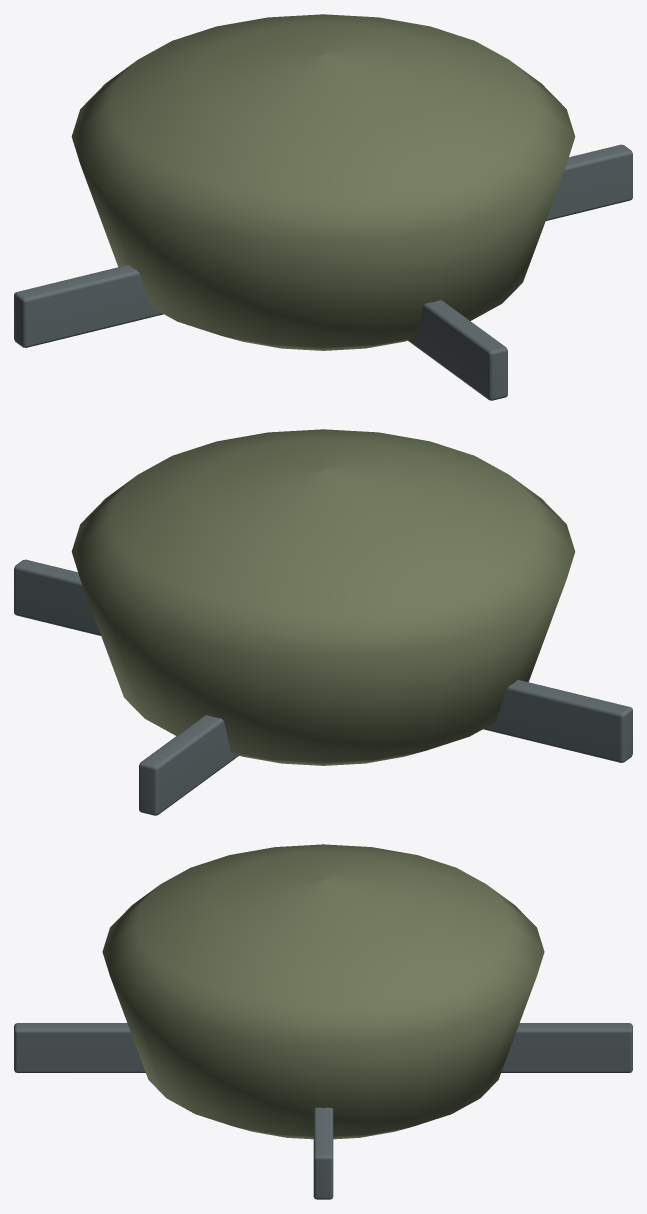
File: rocket-warhead.glb
3 views of the same model, one above another, from view 1: azimuth 30°, elevation 25°; view 2: azimuth 150°, elevation 25°; view 3: azimuth 270°, elevation 25° (orthographic). The views are drawn at different scales.
Visible parts, largest first — view 1: warhead, tail-fin, tail-fin.001; view 2: warhead, tail-fin, tail-fin.001; view 3: warhead, tail-fin.001, tail-fin.
Part boxes in pixels (left/top/right/bottom): warhead: left=71, top=14, right=575, bottom=350; tail-fin: left=14, top=144, right=632, bottom=347; tail-fin.001: left=407, top=300, right=507, bottom=400; warhead: left=71, top=429, right=575, bottom=765; tail-fin: left=14, top=559, right=632, bottom=762; tail-fin.001: left=139, top=715, right=239, bottom=815; warhead: left=102, top=844, right=544, bottom=1139; tail-fin.001: left=14, top=1023, right=632, bottom=1072; tail-fin: left=313, top=1107, right=333, bottom=1199.
Size of the model in its own units: 2.8 by 1 by 2.8.
